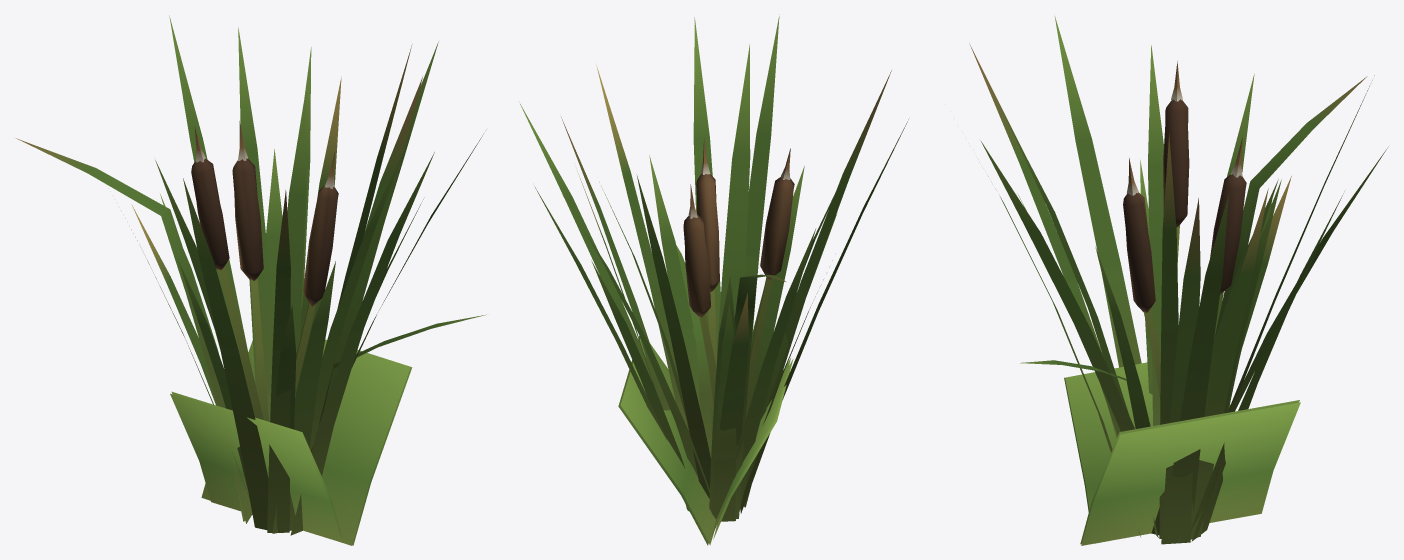
Rendered from reeds_3.glb.
3 views of the same model, side by side, from view 1: azimuth 30°, elevation 25°; view 2: azimuth 150°, elevation 25°; view 3: azimuth 270°, elevation 25° (orthographic). The views are drawn at different scales.
Parts seen in each view (by area): view 1: reeds_3; view 2: reeds_3; view 3: reeds_3.
Part boxes in pixels (x1,y1,x2,y2): reeds_3: (16, 15, 486, 545); reeds_3: (520, 14, 908, 545); reeds_3: (969, 16, 1387, 545).
Bounding box in the file's own units: 0.3591 × 0.4295 × 0.3767.
